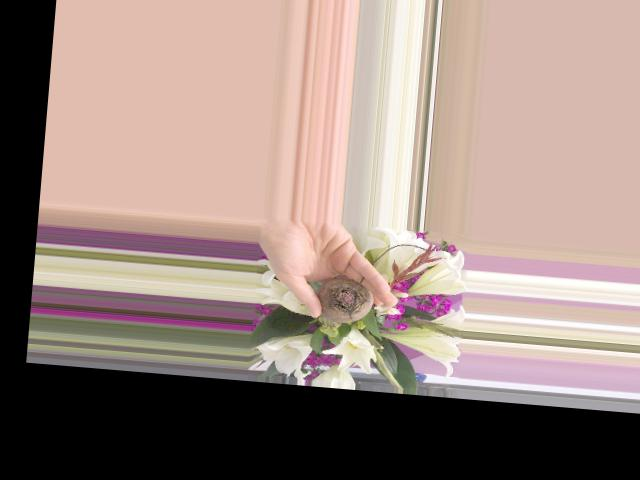beet: (315, 274, 376, 325)
